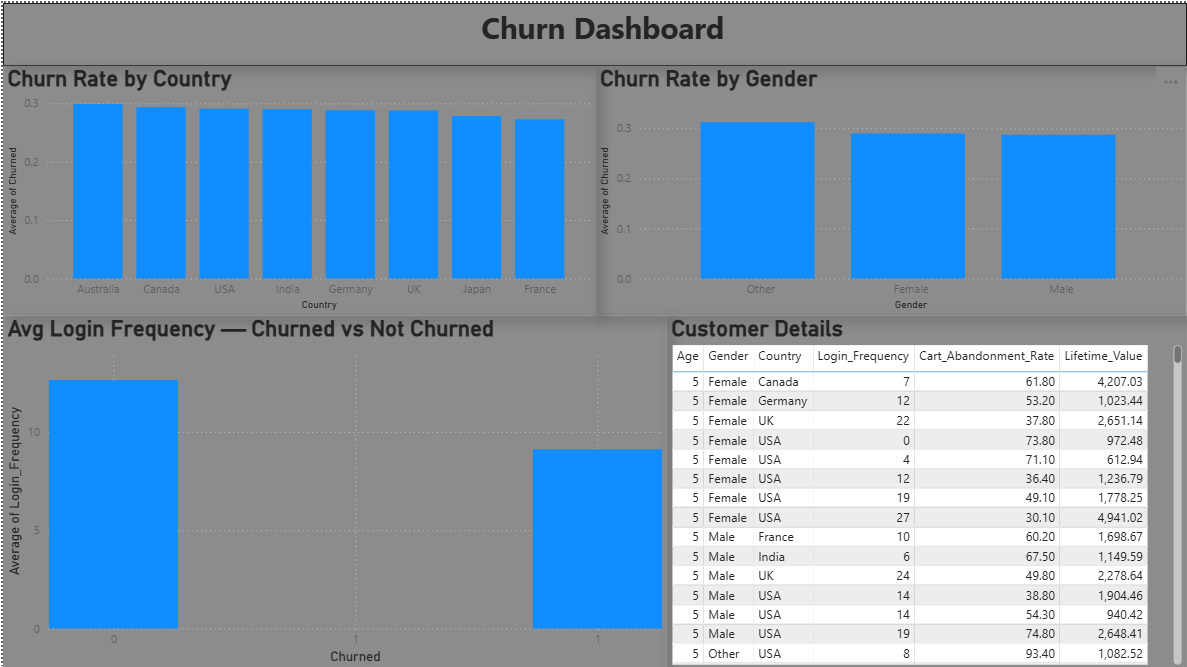

The dashboard page shown, as its layout file describes it:
{"tool":"powerbi","page":{"name":"Page 3","canvas":[1280,720],"ordinal":2},"visuals":[{"type":"textbox","box":[0,0,1280,67.5],"z":0},{"type":"clusteredColumnChart","title":"Churn Rate by Country","fields":{"Category":["ecommerc.Country"],"Y":["Avg(ecommerc.Churned)"]},"box":[0,67.6,640.5,270.3],"z":1},{"type":"clusteredColumnChart","title":"Churn Rate by Gender","fields":{"Category":["ecommerc.Gender"],"Y":["Avg(ecommerc.Churned)"]},"box":[640.5,67.6,639.2,270.3],"z":2},{"type":"clusteredColumnChart","title":"Avg Login Frequency — Churned vs Not Churned","fields":{"Category":["ecommerc.Churned"],"Y":["Avg(ecommerc.Login_Frequency)"]},"box":[0,337.8,717.6,382.4],"z":3},{"type":"tableEx","title":"Customer Details","fields":{"Values":["ecommerc.Age","ecommerc.Gender","ecommerc.Country","ecommerc.Login_Frequency","ecommerc.Cart_Abandonment_Rate","ecommerc.Lifetime_Value"]},"box":[717.6,337.8,562.2,382.4],"z":4}]}

Visuals, with their boxes in screenshot pixels (x1, y1, x2, y2), scaled from the page's 1280x720 canvas onto the 1187x667 screenshot:
textbox: Rect(0, 0, 1186, 63)
"Churn Rate by Country" clusteredColumnChart: Rect(0, 63, 594, 313)
"Churn Rate by Gender" clusteredColumnChart: Rect(594, 63, 1186, 313)
"Avg Login Frequency — Churned vs Not Churned" clusteredColumnChart: Rect(0, 313, 665, 666)
"Customer Details" tableEx: Rect(665, 313, 1186, 666)
